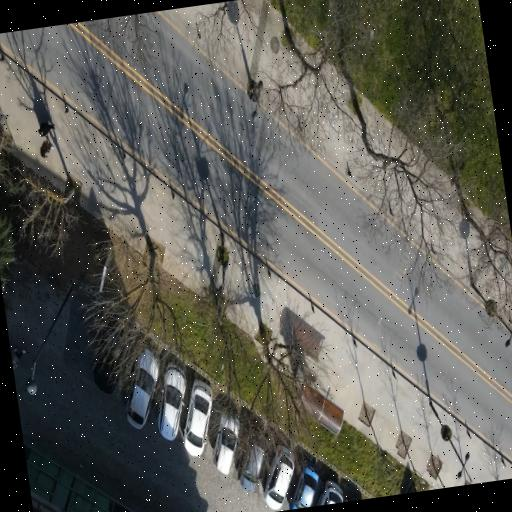car: (126, 348, 159, 427), (183, 378, 212, 455), (158, 364, 186, 440), (263, 444, 294, 508), (213, 413, 239, 473), (289, 459, 319, 509), (238, 443, 264, 490), (93, 360, 118, 394), (317, 479, 343, 505), (345, 498, 355, 501)
person: (12, 348, 25, 368), (40, 139, 54, 157), (38, 122, 54, 135)
